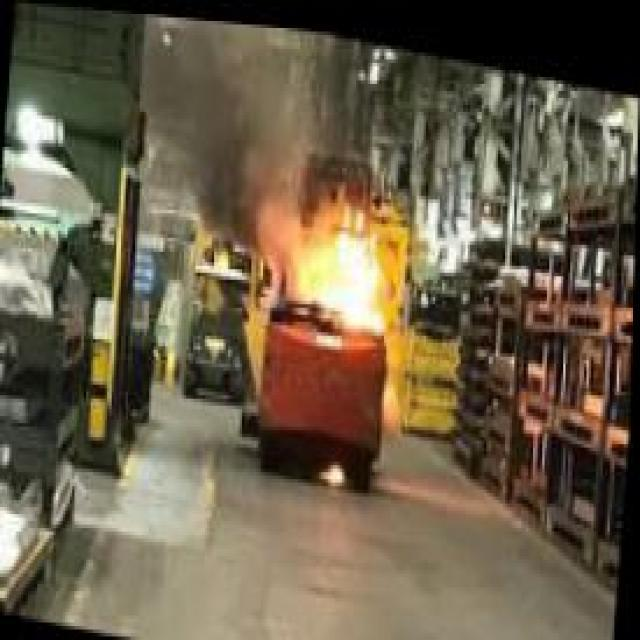Fire: (256, 192, 396, 332)
Smoke: (132, 11, 316, 200)
